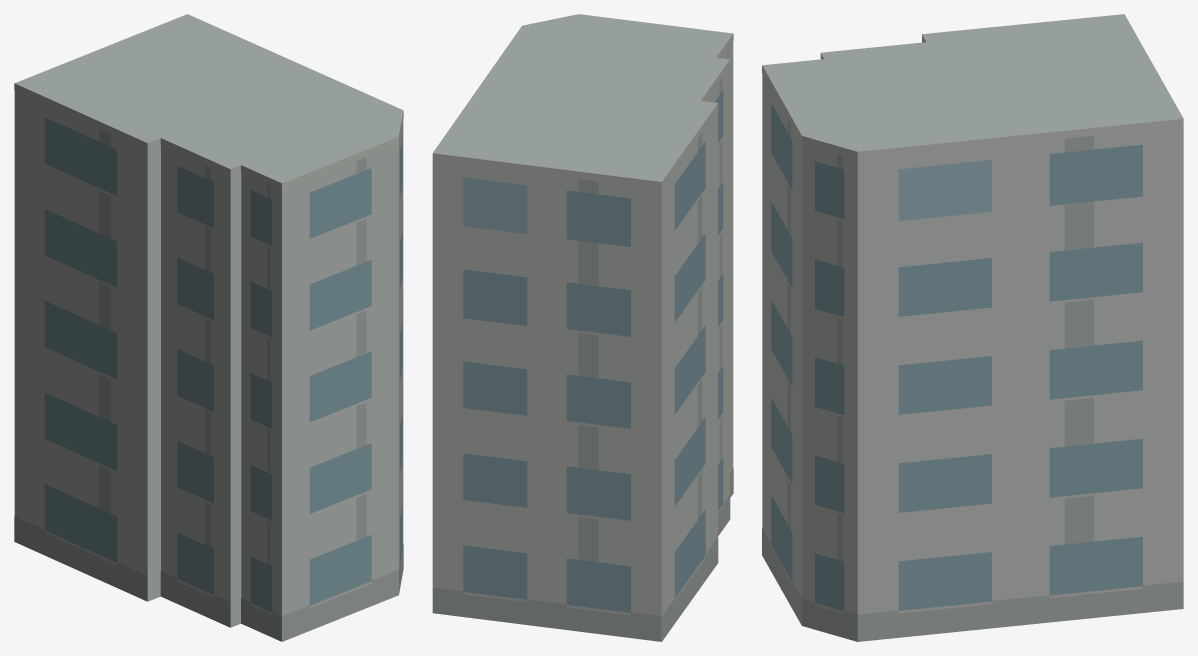
File: residential-3f37df37-b20c-4298-80bb-a24541d4c255.glb
The picture shows the model from 3 angles, left to right: view 1: azimuth 30°, elevation 25°; view 2: azimuth 150°, elevation 25°; view 3: azimuth 270°, elevation 25°; orthographic projection. The views are drawn at different scales.
Parts seen in each view (by area): view 1: residential-3f37df37-b20c-4298-80bb-a24541d4c255.tmp; view 2: residential-3f37df37-b20c-4298-80bb-a24541d4c255.tmp; view 3: residential-3f37df37-b20c-4298-80bb-a24541d4c255.tmp.
Part boxes in pixels (box(x1,y1,x2,y2)): residential-3f37df37-b20c-4298-80bb-a24541d4c255.tmp: box(14, 14, 403, 641); residential-3f37df37-b20c-4298-80bb-a24541d4c255.tmp: box(432, 14, 733, 641); residential-3f37df37-b20c-4298-80bb-a24541d4c255.tmp: box(762, 14, 1183, 641).
Bounding box in the file's own units: 9.2 × 15.25 × 11.9.
